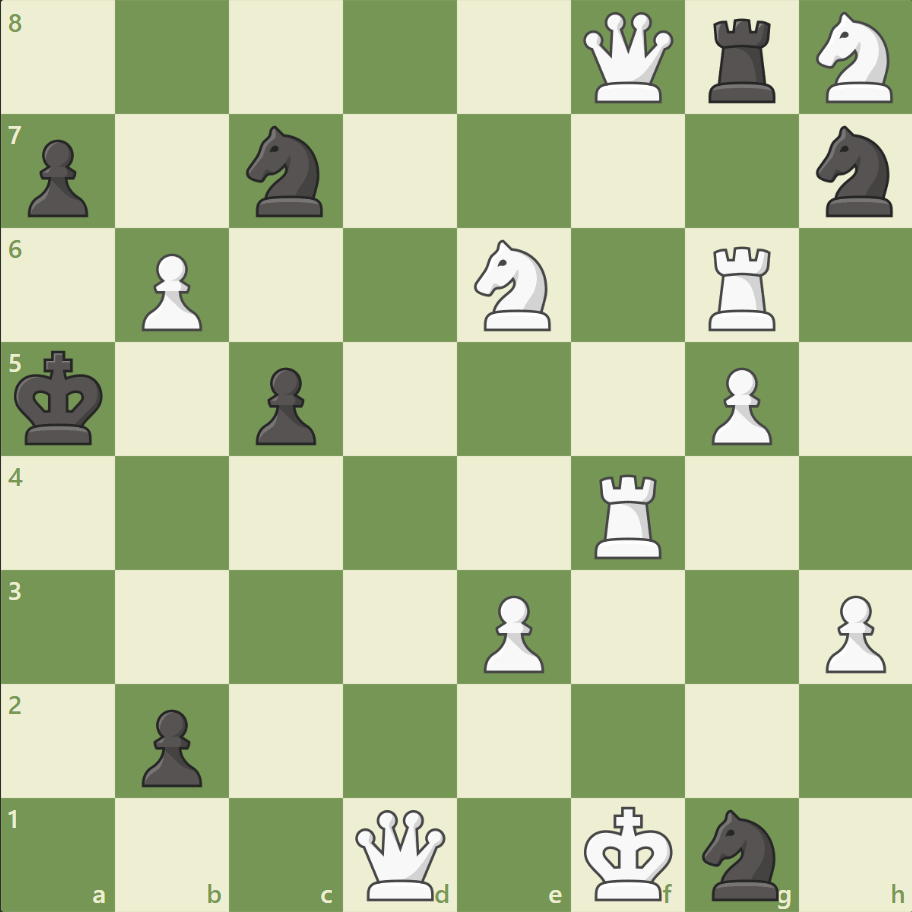K: (579, 798, 679, 906)
N: (806, 7, 903, 110), (465, 234, 562, 337)
P: (133, 246, 208, 337), (701, 359, 776, 450), (474, 586, 549, 677), (815, 586, 889, 677)
Q: (578, 9, 677, 108), (351, 804, 450, 903)
R: (700, 239, 783, 336), (587, 466, 670, 563)
k: (11, 344, 111, 452)
n: (238, 121, 335, 223), (806, 121, 903, 223), (692, 802, 789, 904)
p: (20, 132, 95, 223), (247, 359, 322, 450), (133, 700, 208, 791)
r: (700, 12, 783, 109)
